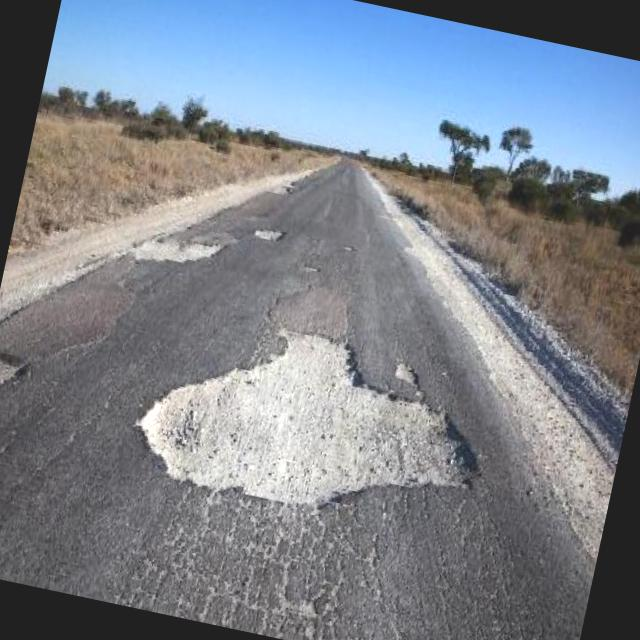pothole: (122, 294, 504, 544), (130, 216, 226, 278), (0, 341, 33, 398), (390, 358, 424, 387), (253, 220, 289, 242)
